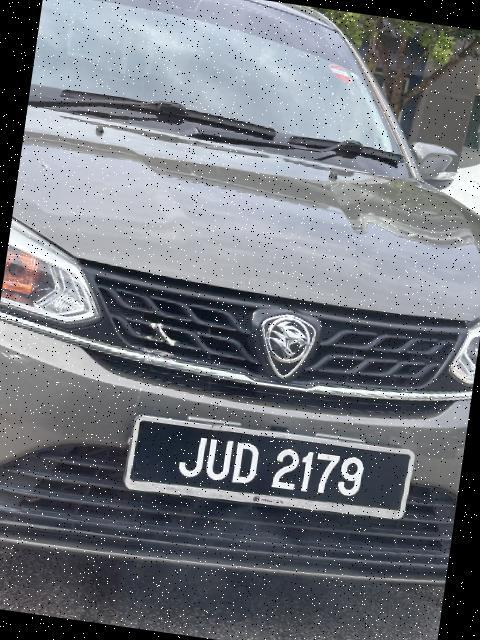JUD2179: (131, 413, 417, 525)
License_Plate: (131, 413, 417, 525)
car: (1, 1, 480, 640)
